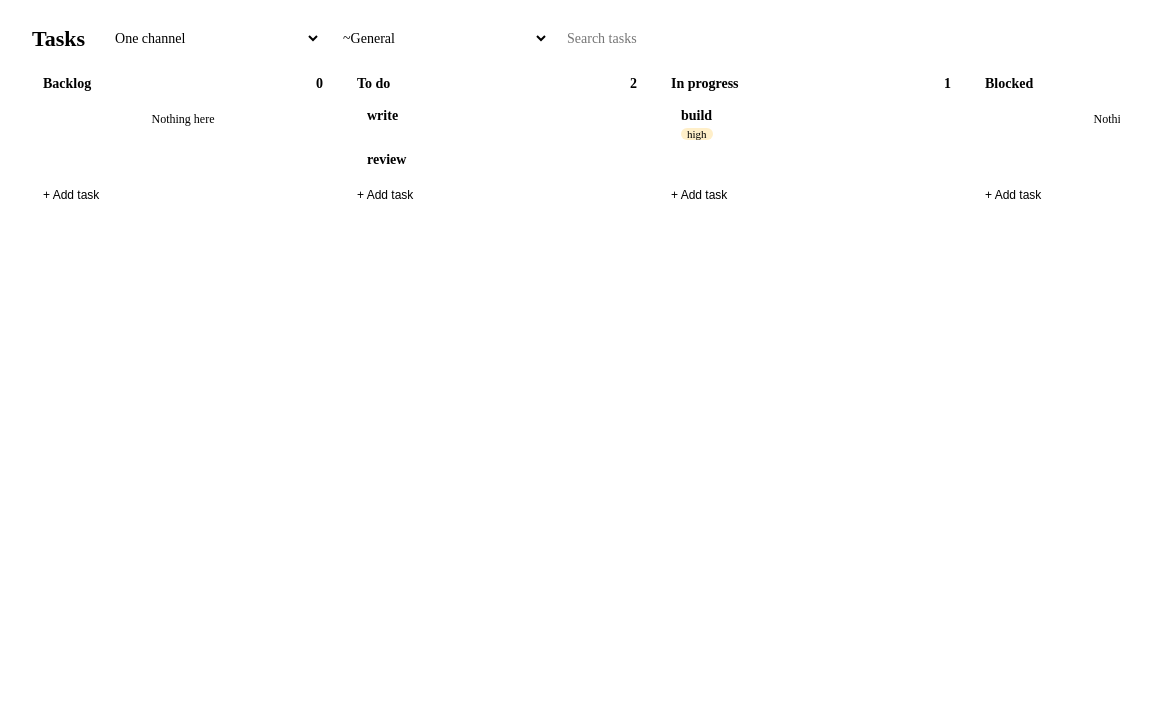
Scenario: BoardPage › opens a card in a dialog with the editable detail, and closes it on Escape
Click the button "write".
click(383, 116)  # box left=367, top=108, right=398, bottom=123
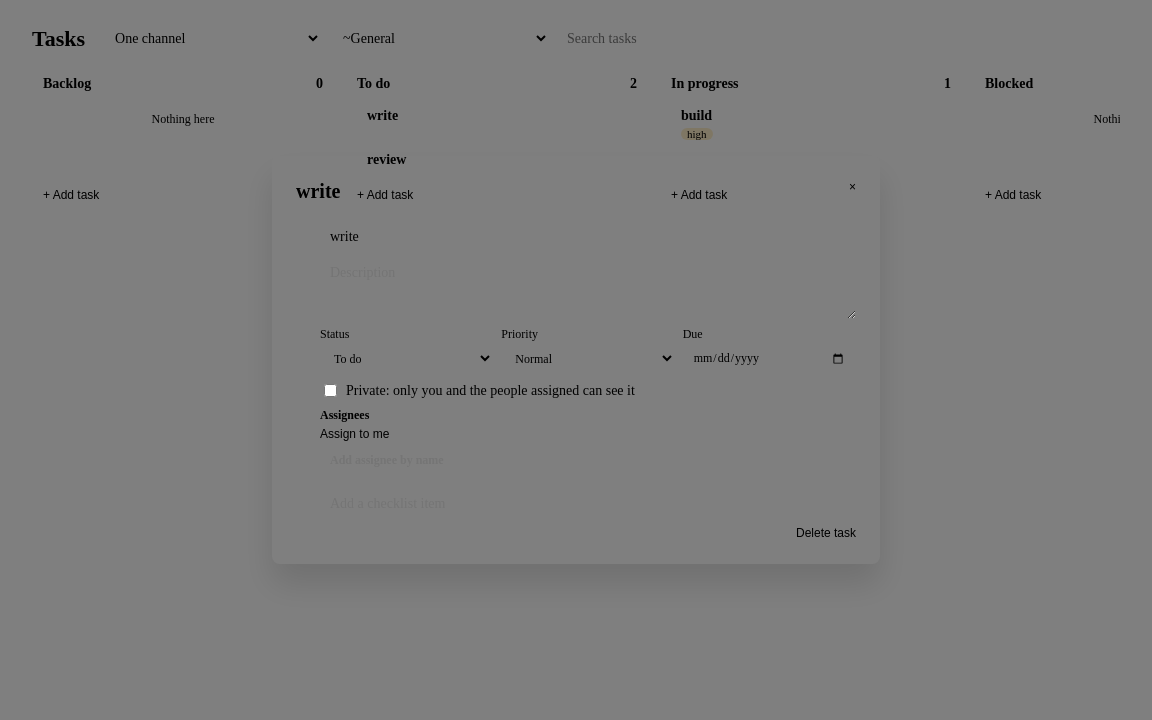
Now the field named "Title" is shown, box left=320, top=223, right=856, bottom=251
Now the text box labelled "Description" is shown, box left=320, top=259, right=856, bottom=319
Press Escape
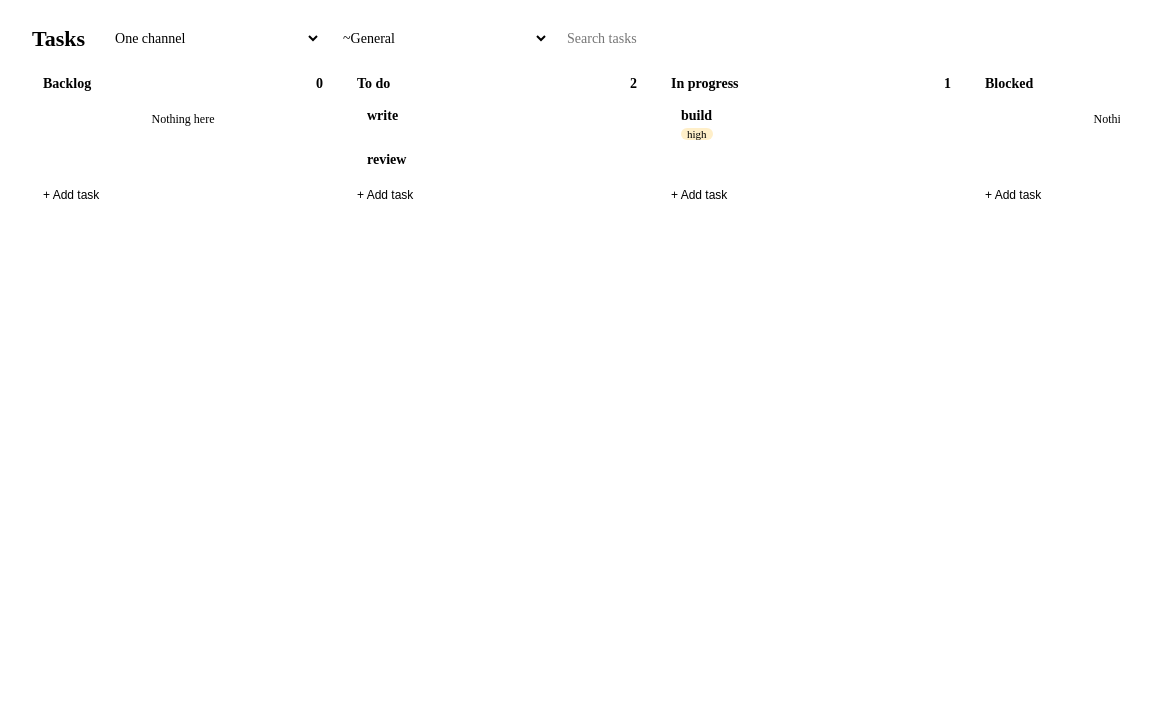
Now the dialog is gone
